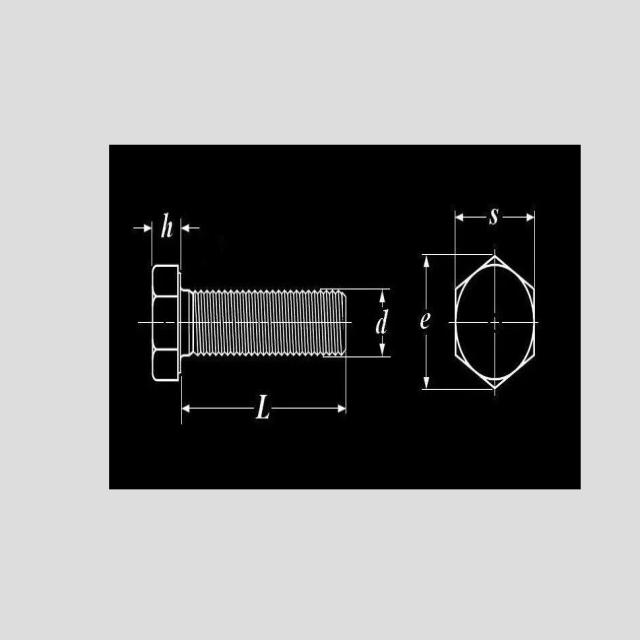marking_line: (417, 248, 433, 309), (181, 401, 255, 414), (273, 404, 347, 416), (501, 206, 537, 227), (420, 331, 432, 392), (176, 216, 202, 240), (453, 209, 489, 224), (375, 336, 390, 360), (133, 223, 155, 238), (377, 286, 389, 304)
